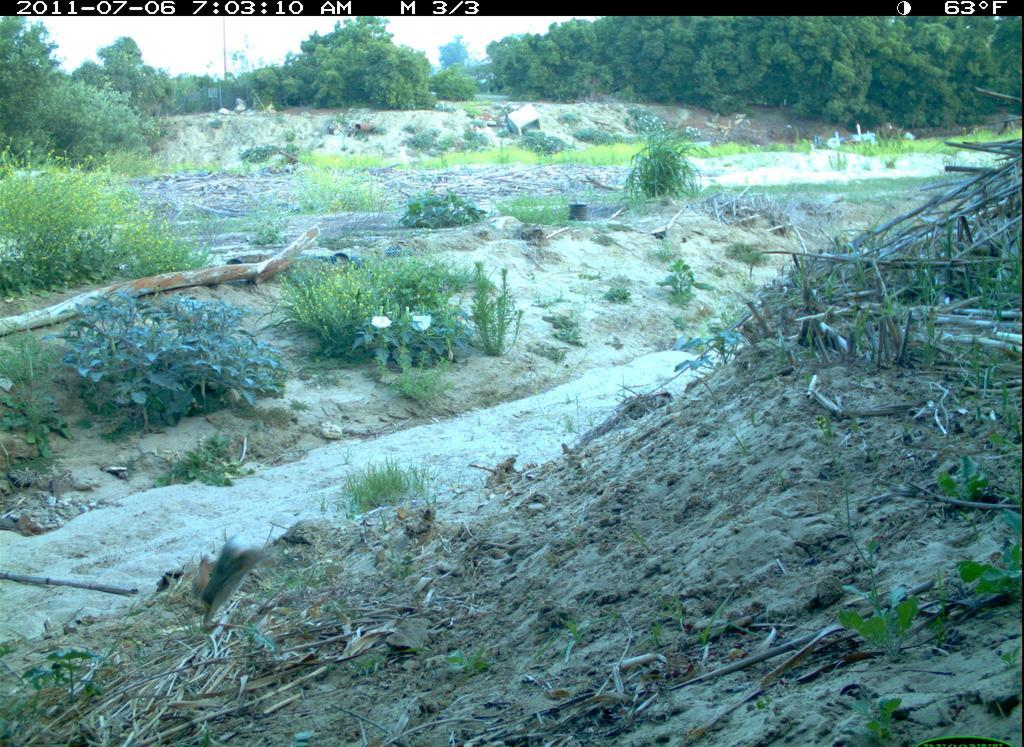rabbit: (180, 527, 280, 633)
